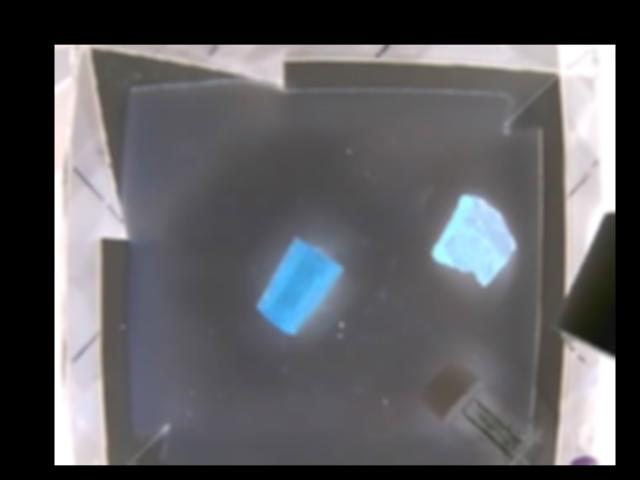Bottle: (417, 361, 536, 464)
Brisk: (430, 194, 516, 289)
Carrot: (257, 233, 344, 334)
